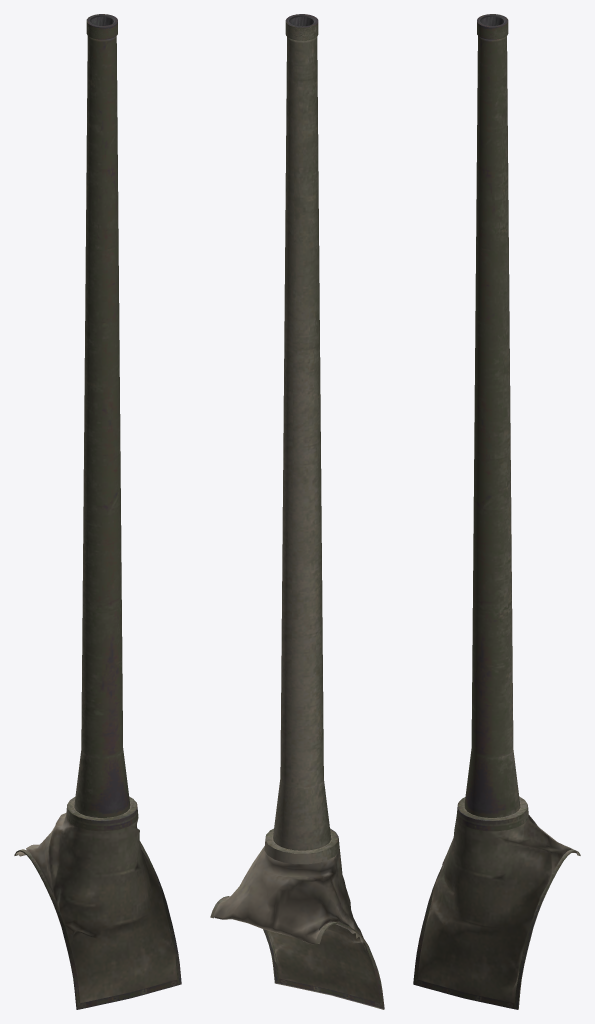
The model's file is Gun_03.glb.
3 renders of one model, left to right at view 1: azimuth 30°, elevation 25°; view 2: azimuth 150°, elevation 25°; view 3: azimuth 330°, elevation 25°, orthographic. The views are drawn at different scales.
Visible parts, largest first — view 1: set_0_group_0; view 2: set_0_group_0; view 3: set_0_group_0.
Part boxes in pixels (x1=…): set_0_group_0: x1=14, y1=14, x2=181, y2=1009; set_0_group_0: x1=210, y1=14, x2=384, y2=1009; set_0_group_0: x1=413, y1=14, x2=580, y2=1009.
Size of the model in its own units: 0.5232 by 4.57 by 0.5602.
1 material, 1 textured.
